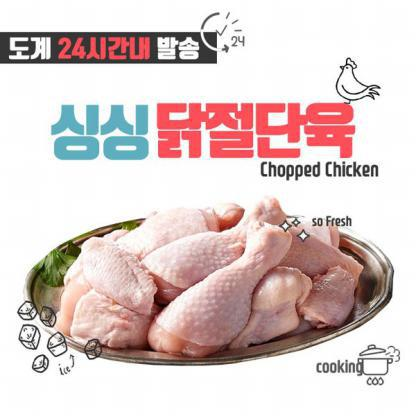chicken: (156, 221, 291, 366), (138, 198, 287, 299), (81, 206, 148, 318), (292, 263, 370, 346), (110, 197, 214, 259)
